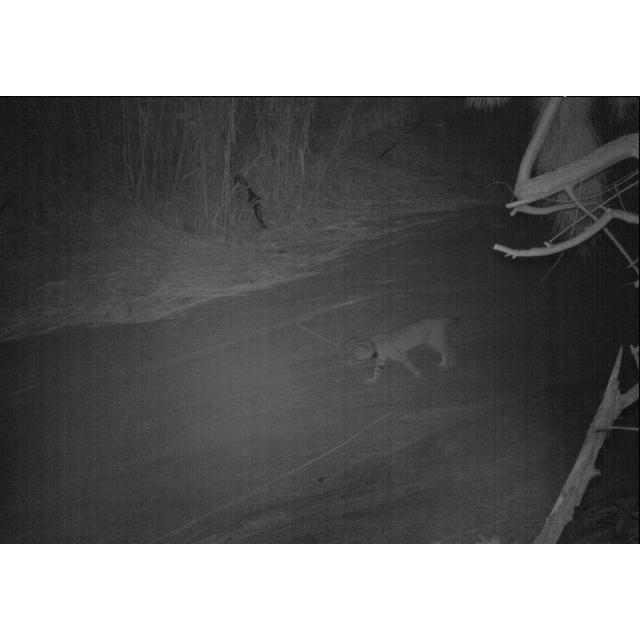animals: (352, 311, 468, 387)
